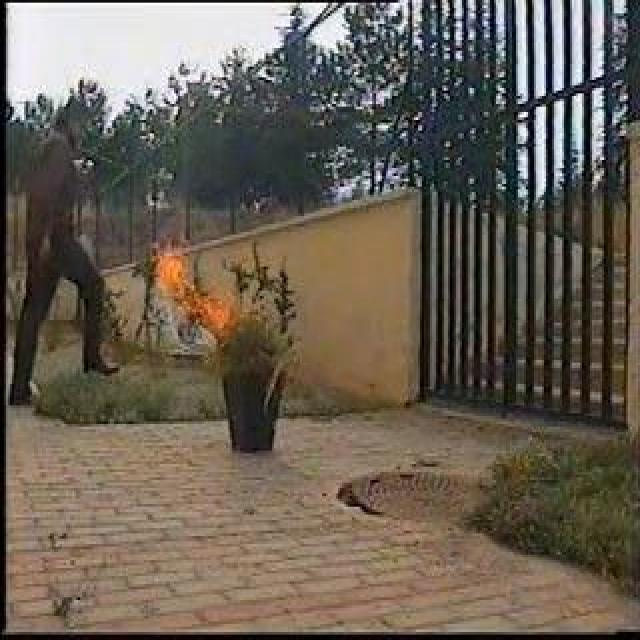fire: (153, 239, 231, 329)
